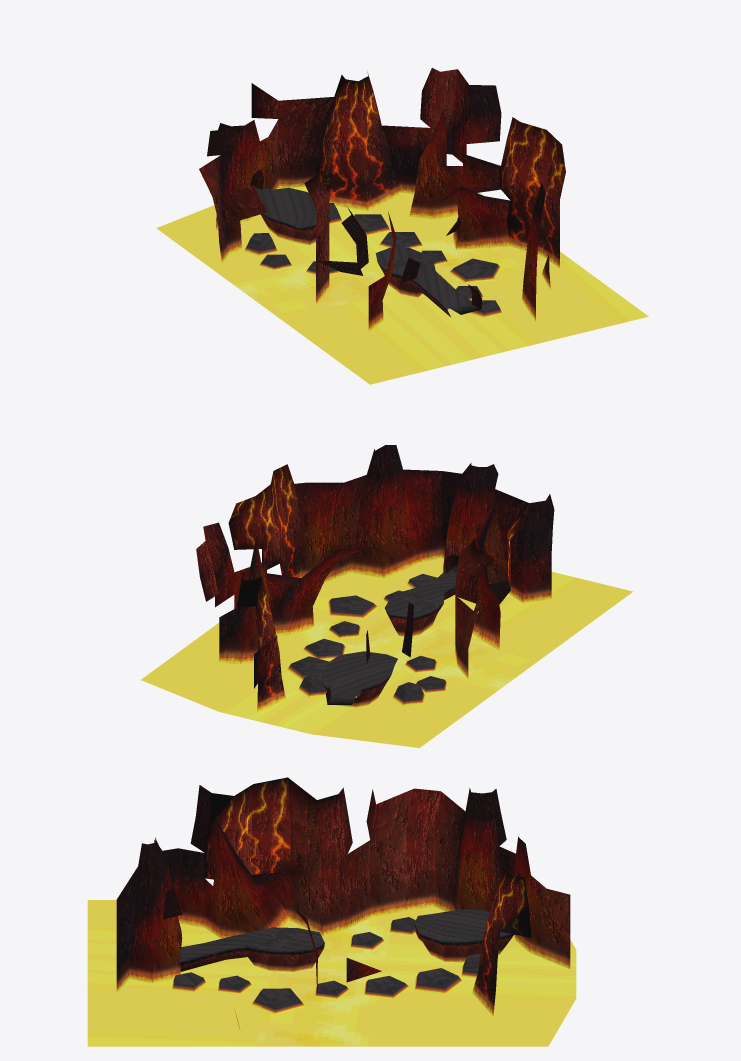
File: AlienBridge.glb
The picture shows the model from 3 angles, top to bottom: view 1: azimuth 30°, elevation 25°; view 2: azimuth 150°, elevation 25°; view 3: azimuth 270°, elevation 25°; orthographic projection. The views are drawn at different scales.
Parts seen in each view (by area): view 1: AlienBridge_17, AlienBridge_2, AlienBridge_4, AlienBridge_5, AlienBridge_3, AlienBridge_6, AlienBridge_9, AlienBridge_14, AlienBridge_10, AlienBridge_11, AlienBridge_8, AlienBridge_7 (+1 smaller); view 2: AlienBridge_17, AlienBridge_2, AlienBridge_5, AlienBridge_4, AlienBridge_6, AlienBridge_3, AlienBridge_9, AlienBridge_8, AlienBridge_7, AlienBridge_10, AlienBridge_14, AlienBridge_11 (+1 smaller); view 3: AlienBridge_17, AlienBridge_2, AlienBridge_5, AlienBridge_4, AlienBridge_6, AlienBridge_3, AlienBridge_8, AlienBridge_9, AlienBridge_7, AlienBridge_15, AlienBridge_10, AlienBridge_11 (+1 smaller).
Boxes of the visible parts, x1,y1,x2,y2 form: AlienBridge_17: (156, 186, 648, 384); AlienBridge_2: (199, 68, 545, 283); AlienBridge_4: (212, 119, 537, 274); AlienBridge_5: (218, 142, 536, 310); AlienBridge_3: (247, 185, 499, 314); AlienBridge_6: (216, 167, 550, 331); AlienBridge_9: (328, 94, 565, 198); AlienBridge_14: (317, 144, 559, 246); AlienBridge_10: (320, 122, 559, 222); AlienBridge_11: (313, 167, 559, 267); AlienBridge_8: (334, 72, 565, 233); AlienBridge_7: (244, 216, 502, 317); AlienBridge_17: (141, 558, 632, 747); AlienBridge_2: (196, 445, 554, 688); AlienBridge_5: (219, 512, 551, 657); AlienBridge_4: (215, 488, 552, 649); AlienBridge_6: (219, 536, 551, 707); AlienBridge_3: (291, 564, 457, 704); AlienBridge_9: (228, 484, 510, 633); AlienBridge_8: (228, 464, 523, 606); AlienBridge_7: (287, 579, 447, 706); AlienBridge_10: (258, 511, 510, 651); AlienBridge_14: (258, 535, 299, 687); AlienBridge_11: (257, 559, 299, 712); AlienBridge_17: (87, 900, 576, 1046); AlienBridge_2: (116, 778, 530, 923); AlienBridge_5: (116, 855, 570, 992); AlienBridge_4: (116, 827, 570, 982); AlienBridge_6: (116, 882, 570, 1034); AlienBridge_3: (175, 909, 509, 1007); AlienBridge_8: (209, 777, 528, 906); AlienBridge_9: (205, 819, 531, 937); AlienBridge_7: (172, 920, 477, 1014); AlienBridge_15: (179, 933, 513, 971); AlienBridge_10: (205, 846, 500, 960); AlienBridge_11: (472, 970, 495, 1015).
Bounding box in the file's own units: 360 × 115 × 540.
18 materials, 18 textured.
